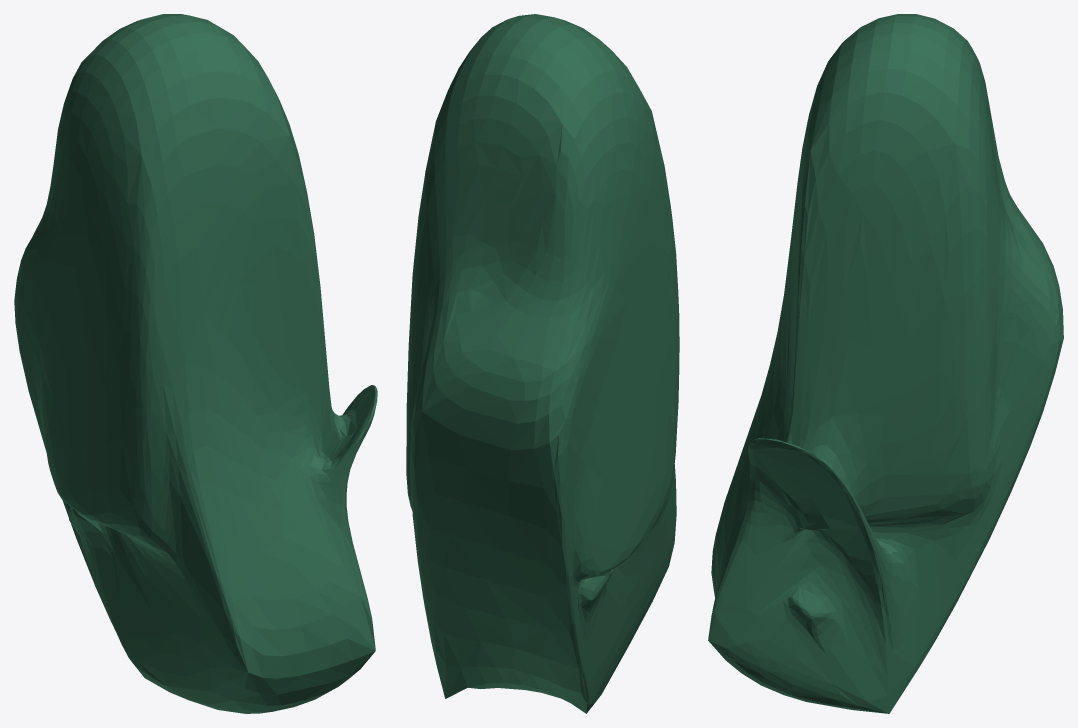
3 renders of one model, left to right at view 1: azimuth 30°, elevation 25°; view 2: azimuth 150°, elevation 25°; view 3: azimuth 270°, elevation 25°, orthographic. The views are drawn at different scales.
Visible parts, largest first — view 1: 890_Cube.3592; view 2: 890_Cube.3592; view 3: 890_Cube.3592.
Part boxes in pixels (x1=…): 890_Cube.3592: x1=14, y1=14, x2=377, y2=713; 890_Cube.3592: x1=406, y1=14, x2=679, y2=713; 890_Cube.3592: x1=708, y1=14, x2=1063, y2=713.
Size of the model in its own units: 6.24 by 15.97 by 7.96.
